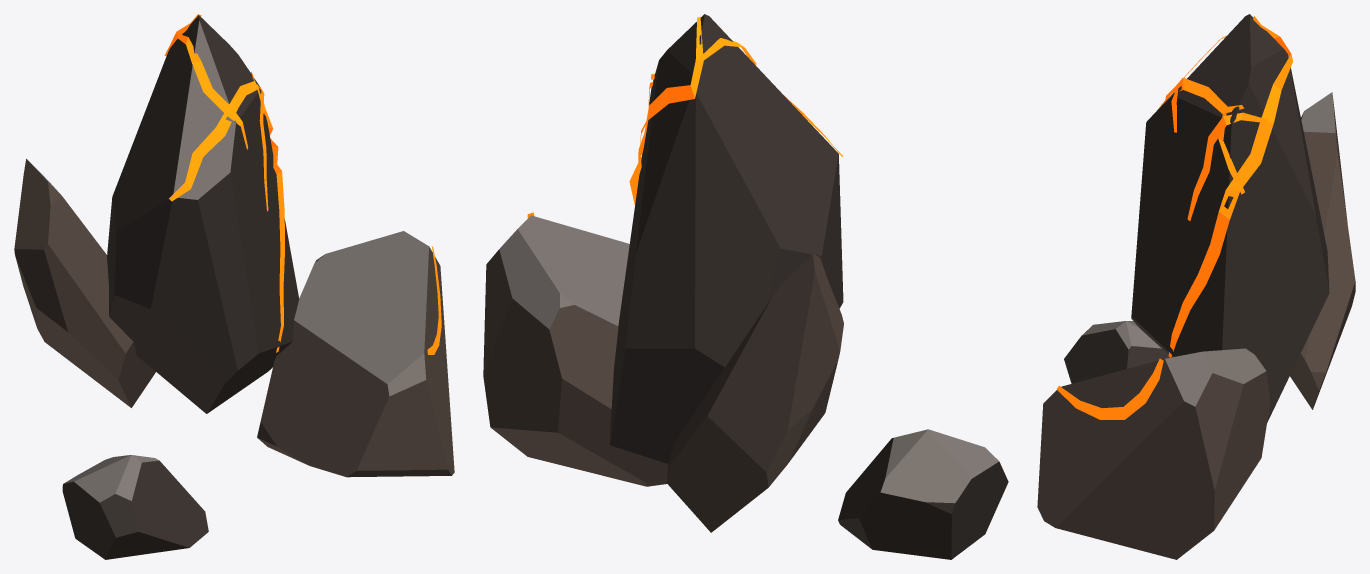
The model's file is lava_rock_a.glb.
3 renders of one model, left to right at view 1: azimuth 30°, elevation 25°; view 2: azimuth 150°, elevation 25°; view 3: azimuth 270°, elevation 25°, orthographic. The views are drawn at different scales.
Parts seen in each view (by area): view 1: lava_rock_a; view 2: lava_rock_a; view 3: lava_rock_a.
Boxes of the visible parts, x1,y1,x2,y2 form: lava_rock_a: (14, 14, 454, 559); lava_rock_a: (483, 14, 1008, 559); lava_rock_a: (1037, 14, 1355, 559).
Size of the model in its own units: 1.55 by 1.73 by 1.08.
